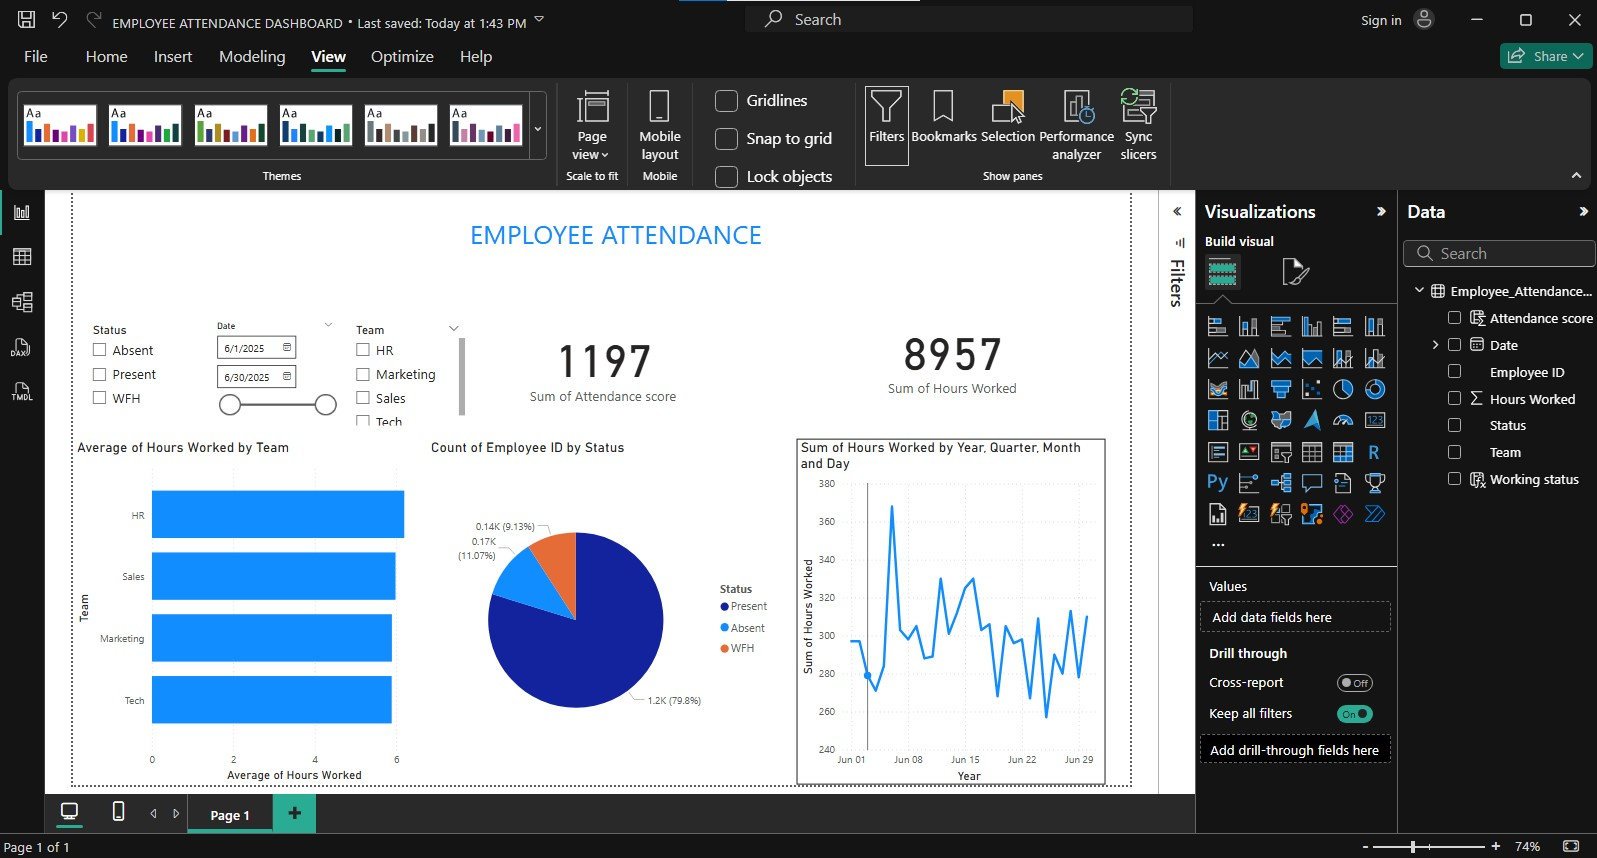

Layout of this report page (visuals, bound fields, positions):
{"tool":"powerbi","page":{"name":"Page 1","canvas":[1280,720],"ordinal":0},"visuals":[{"type":"card","fields":{"Values":["Sum(Employee_Attendance_Tracker.Hours Worked)"]},"box":[904.6,137,320.1,128.8],"z":0},{"type":"card","fields":{"Values":["Sum(Employee_Attendance_Tracker.Attendance score)"]},"box":[497.7,156,287.5,109.9],"z":1000},{"type":"barChart","fields":{"Category":["Employee_Attendance_Tracker.Team"],"Y":["Avg(Employee_Attendance_Tracker.Hours Worked)"]},"box":[0,300.7,449.4,420],"z":2000},{"type":"pieChart","fields":{"Category":["Employee_Attendance_Tracker.Status"],"Y":["CountNonNull(Employee_Attendance_Tracker.Employee ID)"]},"box":[428.6,301.1,425.9,419.1],"z":3000},{"type":"lineChart","fields":{"Y":["Sum(Employee_Attendance_Tracker.Hours Worked)"],"Category":["Employee_Attendance_Tracker.Date.Variation.Date Hierarchy.Year","Employee_Attendance_Tracker.Date.Variation.Date Hierarchy.Quarter","Employee_Attendance_Tracker.Date.Variation.Date Hierarchy.Month","Employee_Attendance_Tracker.Date.Variation.Date Hierarchy.Day"]},"box":[876.5,300.5,374.3,420.2],"z":4000},{"type":"slicer","fields":{"Values":["Employee_Attendance_Tracker.Date"]},"box":[161.4,153.3,165.5,142.4],"z":4001},{"type":"slicer","fields":{"Values":["Employee_Attendance_Tracker.Status"]},"box":[10.8,156.5,150.3,122.4],"z":4002},{"type":"slicer","fields":{"Values":["Employee_Attendance_Tracker.Team"]},"box":[329.6,156,150.5,134.3],"z":4003},{"type":"textbox","box":[0,0,1280.3,124.8],"z":4004}]}

Visuals, with their boxes on the page's 1280x720 design canvas (x1, y1, x2, y2). These are canvas units, not pixel positions in the 1597x858 screenshot, which may show the page scaled, cropped or inside an application window:
card - Sum(Employee_Attendance_Tracker.Hours Worked): Rect(905, 137, 1225, 266)
card - Sum(Employee_Attendance_Tracker.Attendance score): Rect(498, 156, 785, 266)
barChart - Employee_Attendance_Tracker.Team x Avg(Employee_Attendance_Tracker.Hours Worked): Rect(0, 301, 449, 721)
pieChart - Employee_Attendance_Tracker.Status x CountNonNull(Employee_Attendance_Tracker.Employee ID): Rect(429, 301, 854, 720)
lineChart - Sum(Employee_Attendance_Tracker.Hours Worked) x Employee_Attendance_Tracker.Date.Variation.Date Hierarchy.Year: Rect(876, 300, 1251, 721)
slicer - Employee_Attendance_Tracker.Date: Rect(161, 153, 327, 296)
slicer - Employee_Attendance_Tracker.Status: Rect(11, 156, 161, 279)
slicer - Employee_Attendance_Tracker.Team: Rect(330, 156, 480, 290)
textbox: Rect(0, 0, 1280, 125)
